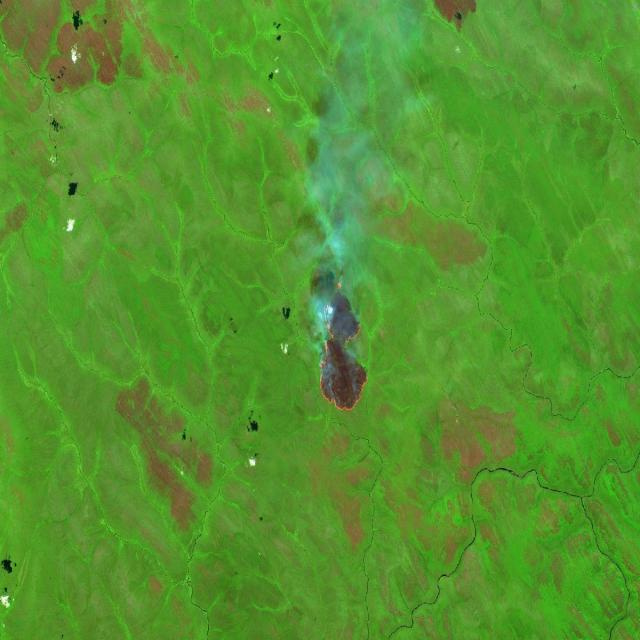fire: (314, 277, 374, 415)
